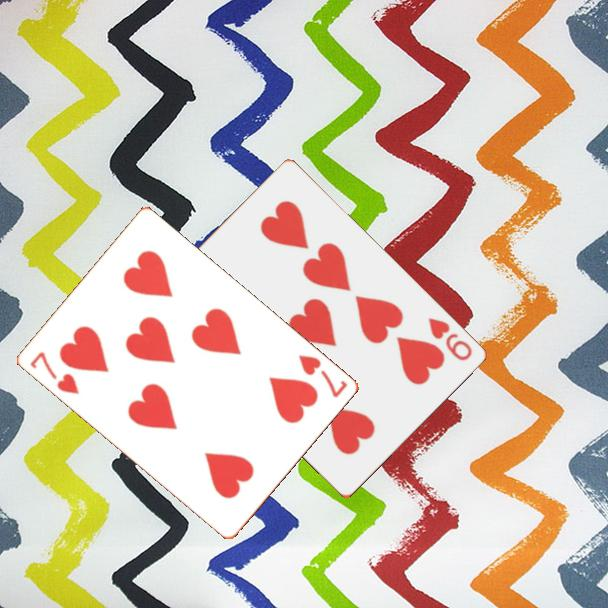h07: (294, 351, 350, 401), (26, 348, 82, 397)
h09: (424, 314, 475, 364)
